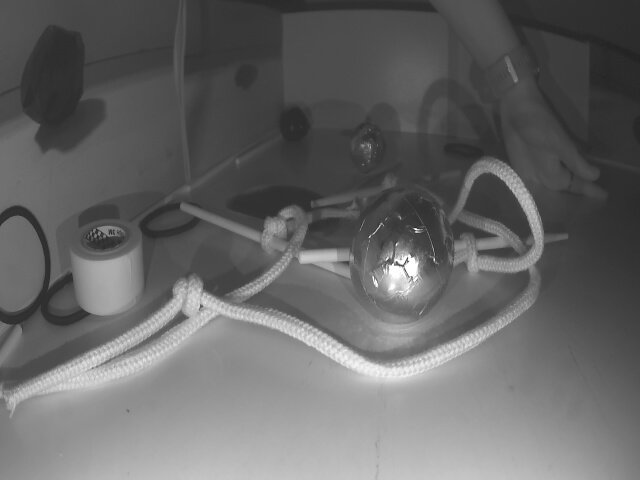Dead: (281, 105, 307, 140)
Live: (345, 185, 455, 325), (348, 122, 385, 174)
